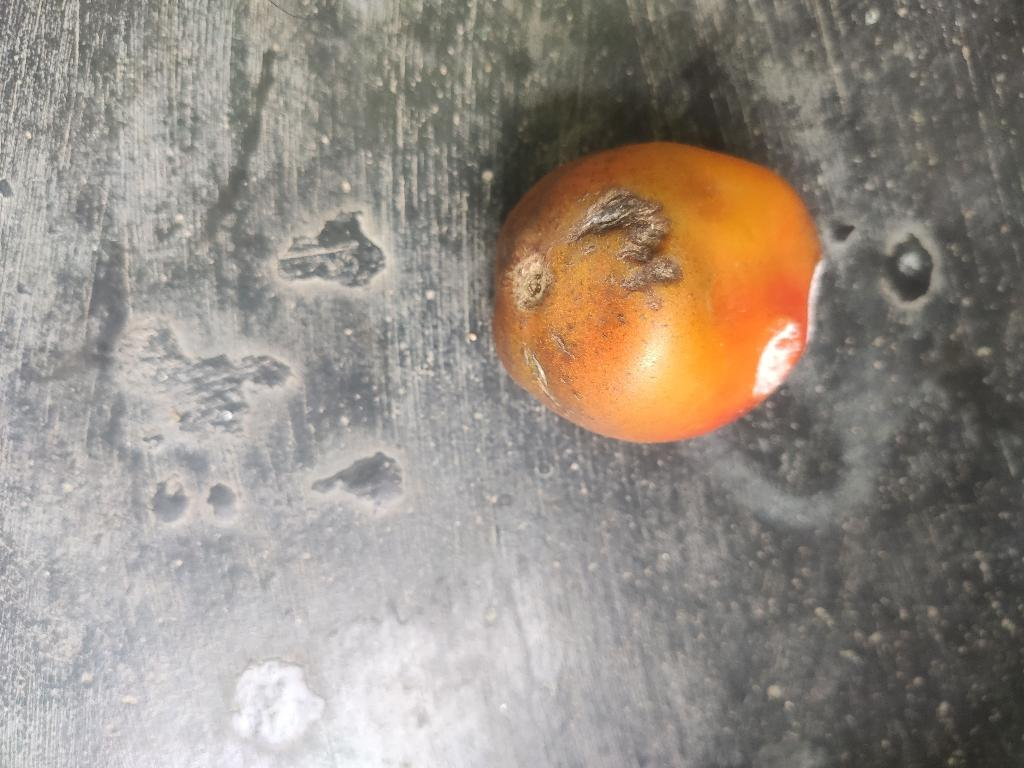bruise_discoloration: (749, 316, 803, 403)
rot_mold_decay: (571, 187, 681, 308), (753, 322, 801, 397), (808, 261, 824, 341)
surface_damage: (522, 345, 553, 400), (550, 331, 574, 359)
tomato: (494, 143, 820, 441)
